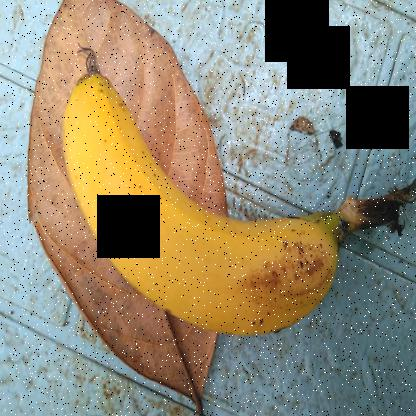freshripe: (54, 68, 344, 346)
